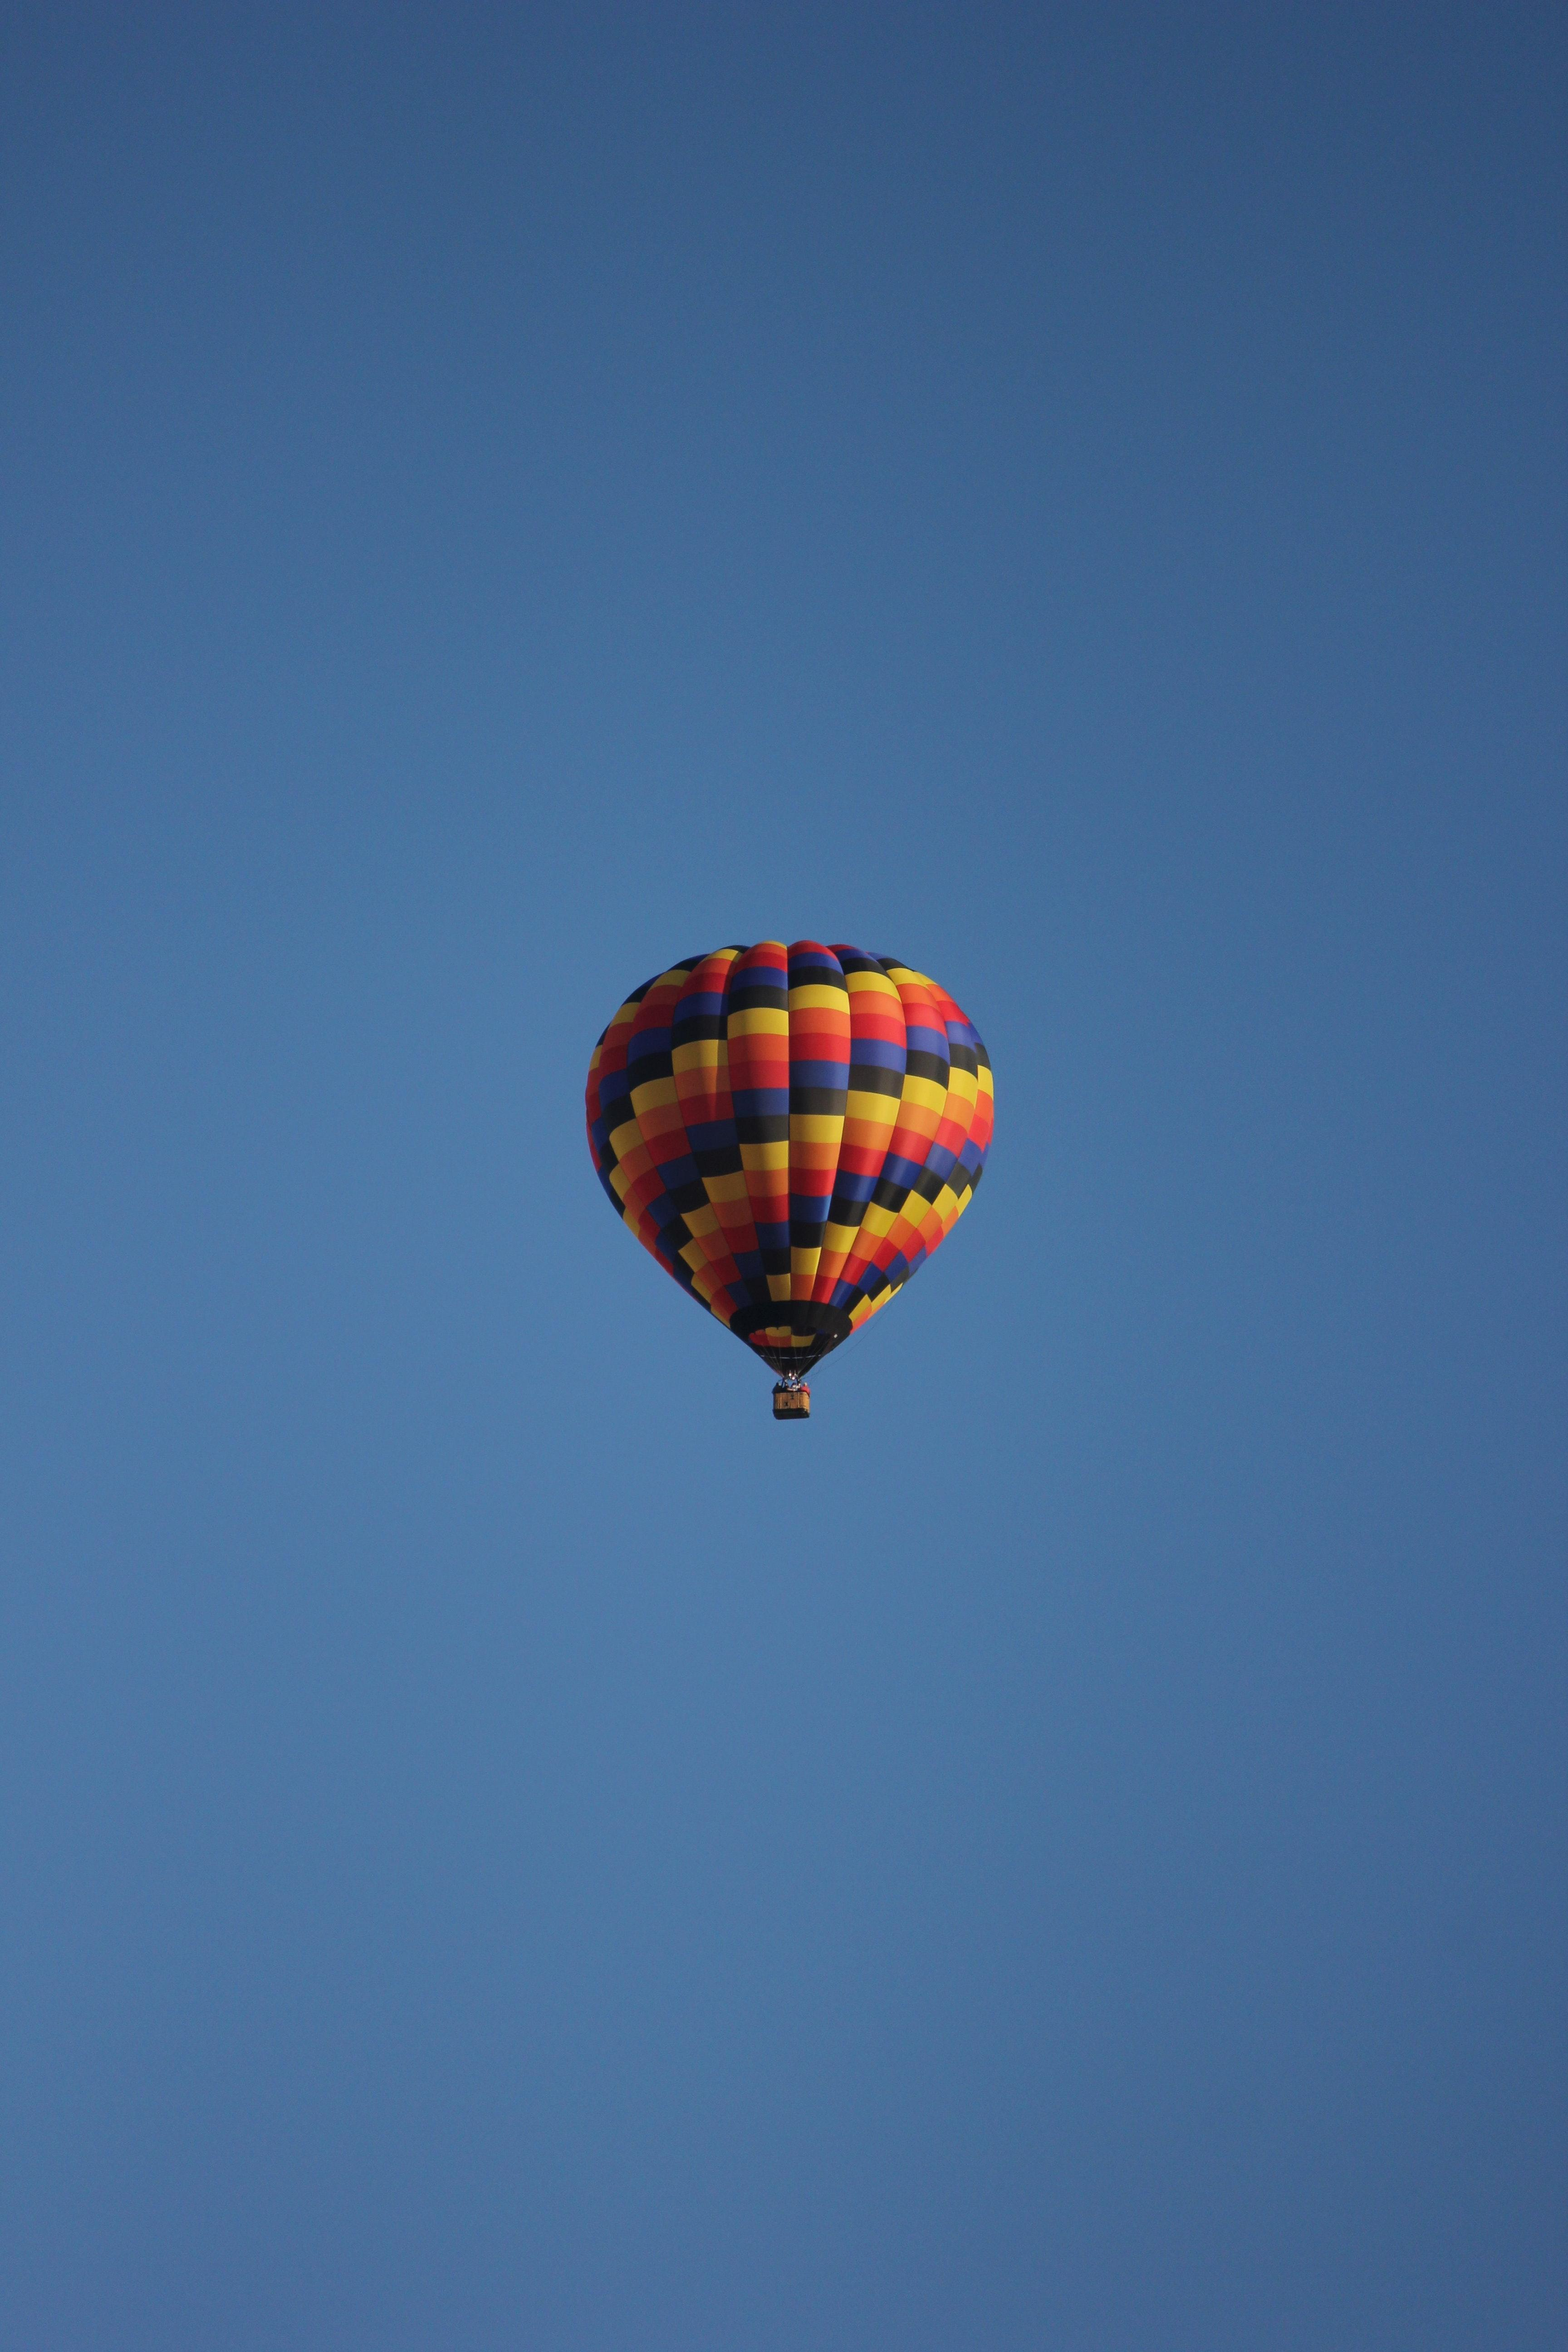hot air ballon: (583, 929, 1006, 1435)
